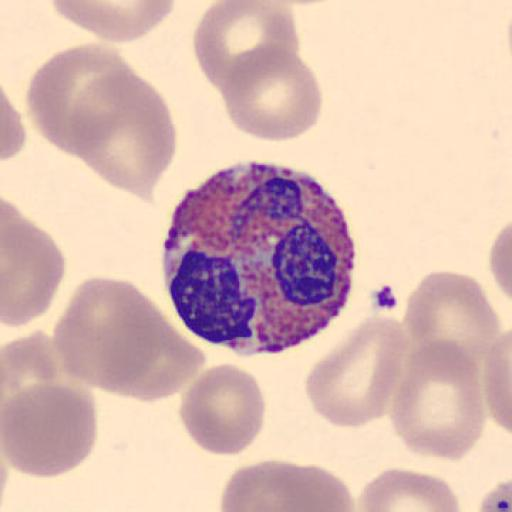RBC: (56, 274, 207, 404), (68, 68, 178, 200), (50, 274, 168, 397), (24, 41, 141, 158), (387, 337, 486, 461), (98, 296, 206, 404), (304, 314, 406, 428), (400, 270, 502, 382), (191, 1, 301, 98), (218, 42, 322, 143), (3, 381, 98, 479), (178, 361, 267, 457), (2, 200, 66, 329), (47, 0, 176, 44), (218, 457, 311, 512), (2, 330, 58, 418), (356, 467, 462, 512), (274, 461, 355, 512), (482, 327, 512, 437), (489, 217, 512, 315), (1, 81, 26, 163), (476, 476, 511, 512), (0, 437, 11, 512)
WBC: (164, 158, 358, 358)
